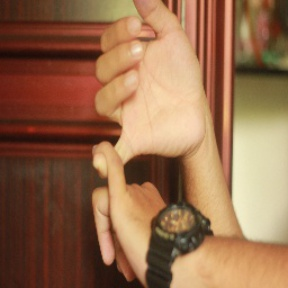S: (78, 2, 213, 278)
